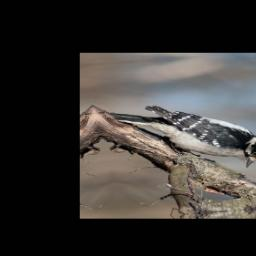Woodpecker: (103, 97, 256, 179)
